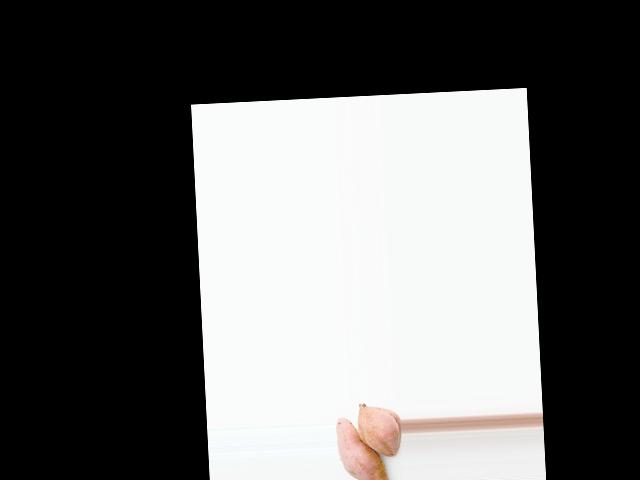sweet_potato: (360, 401, 397, 454)
